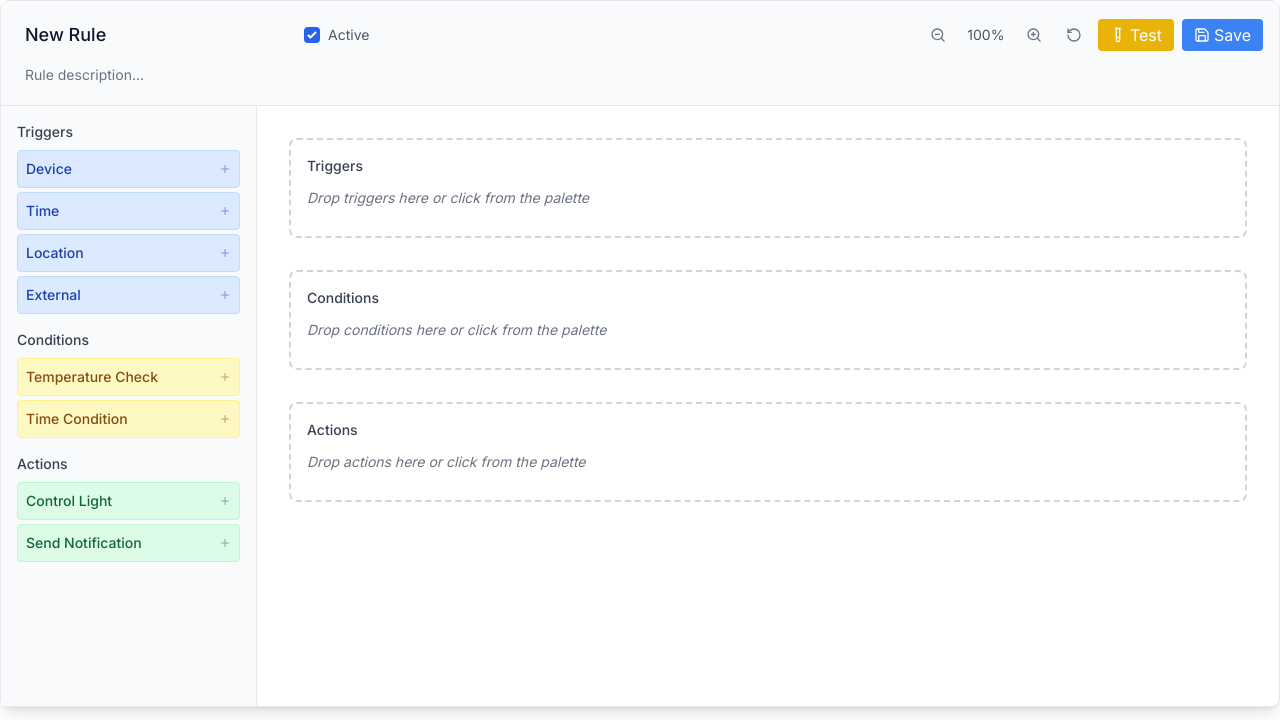
Test: RuleBuilder Component › Zoom and Pan Controls › zooms out when zoom out button is clicked
This screenshot has width=1280, height=720.
Click the button titled "Zoom Out": x=938, y=35 x1=922 y1=19 x2=954 y2=51
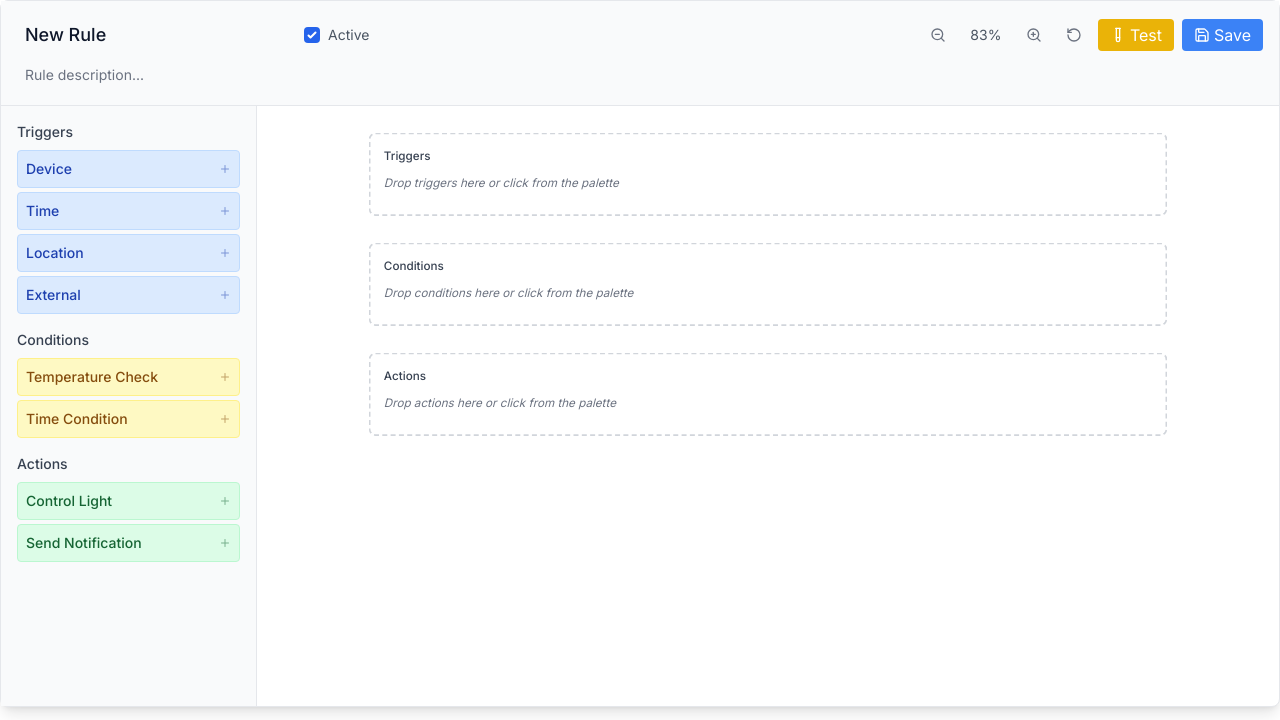
Result: the text "83%" is shown at x1=970 y1=26 x2=1001 y2=43
